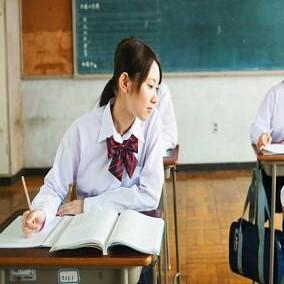cheating: (0, 37, 172, 253)
